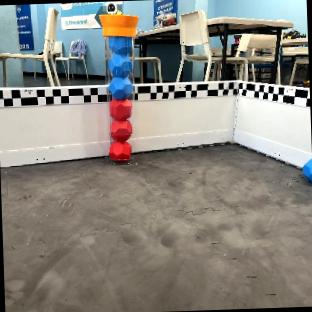Loader: (100, 12, 138, 163)
V5_BLUE: (108, 36, 133, 98)
V5_RED: (111, 97, 131, 118), (110, 141, 130, 161), (111, 119, 131, 139)
